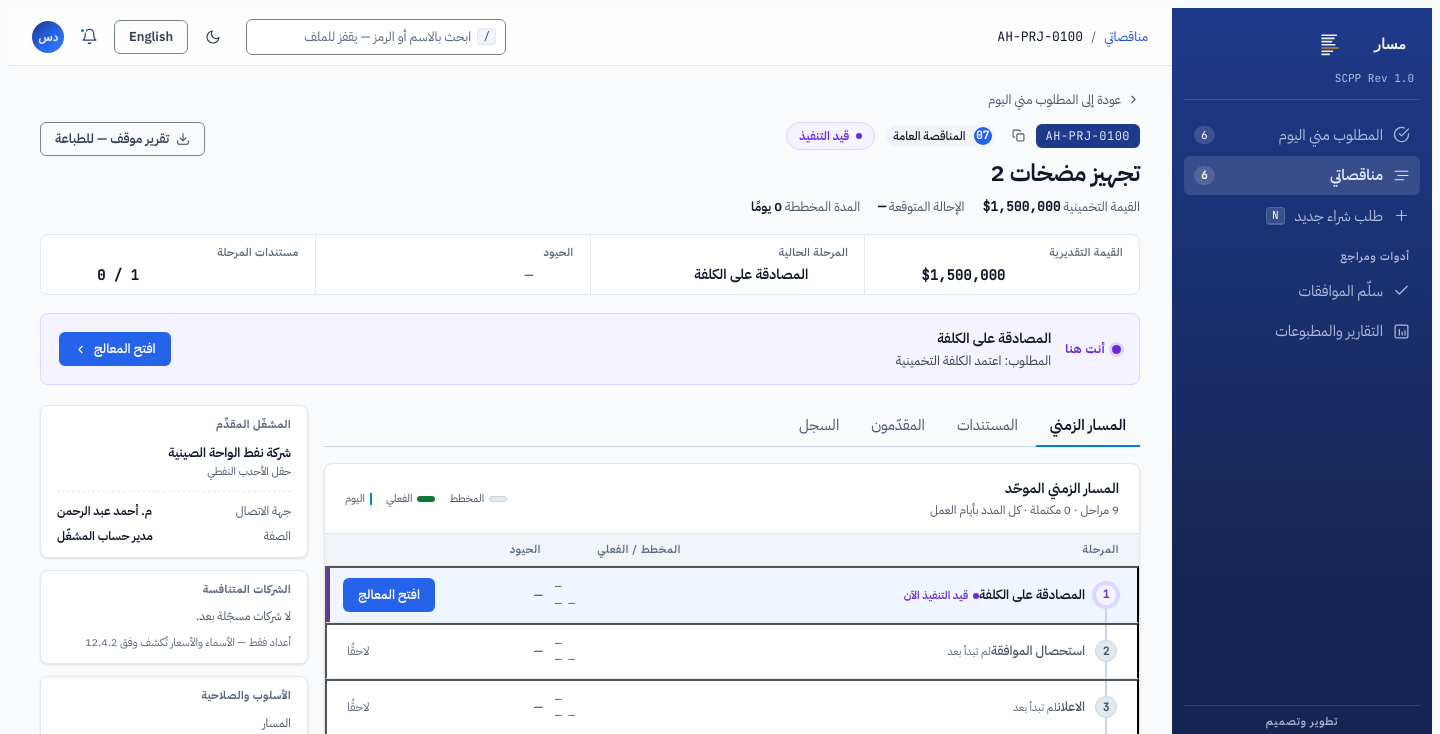
د11-ت1 — a runtime-created tender owns its birth row, and only its own › shows the birth row inside the created tender's own file
Click the tab "السجل" at (819, 426), box [785,405,853,447]
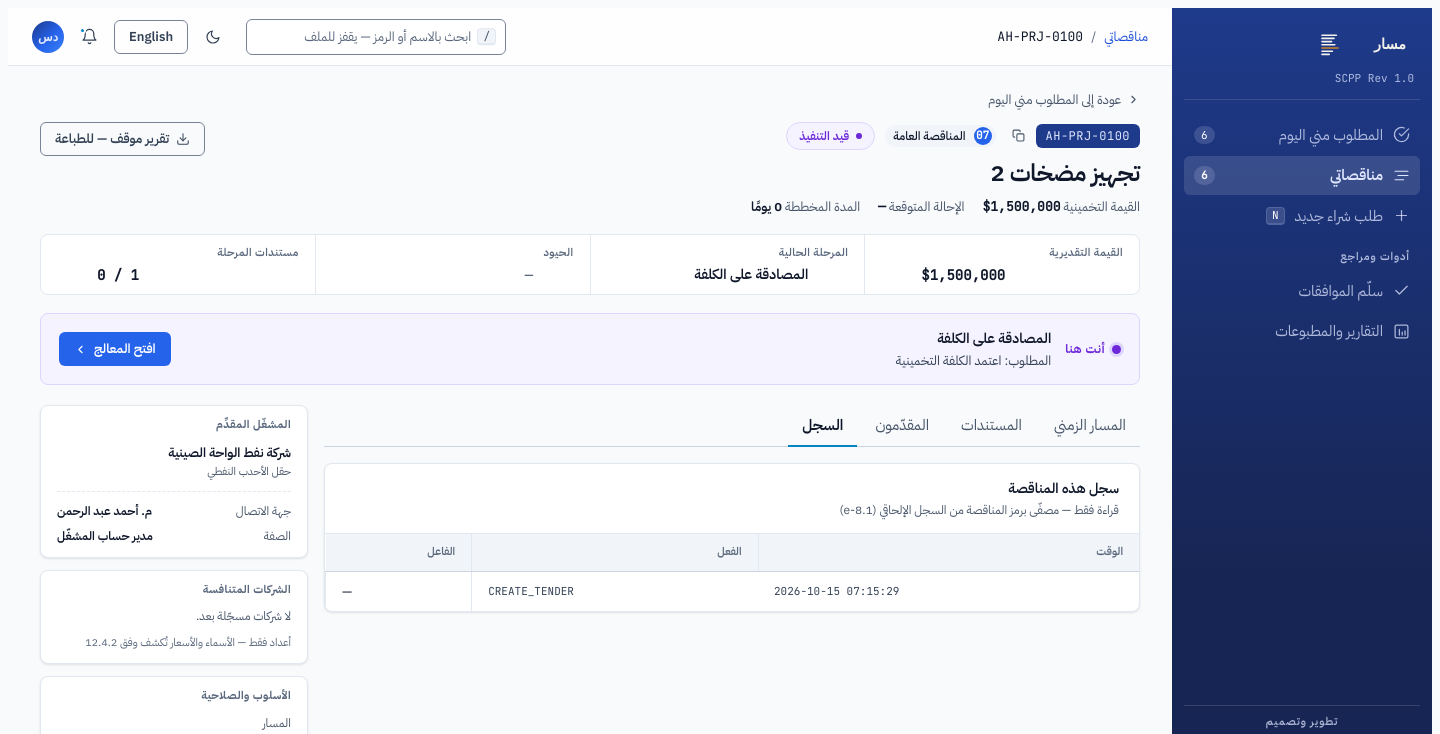
Result: the row "2026-10-15 07:15:29 CREATE_TENDER —" is shown at [326,571,1139,611]
